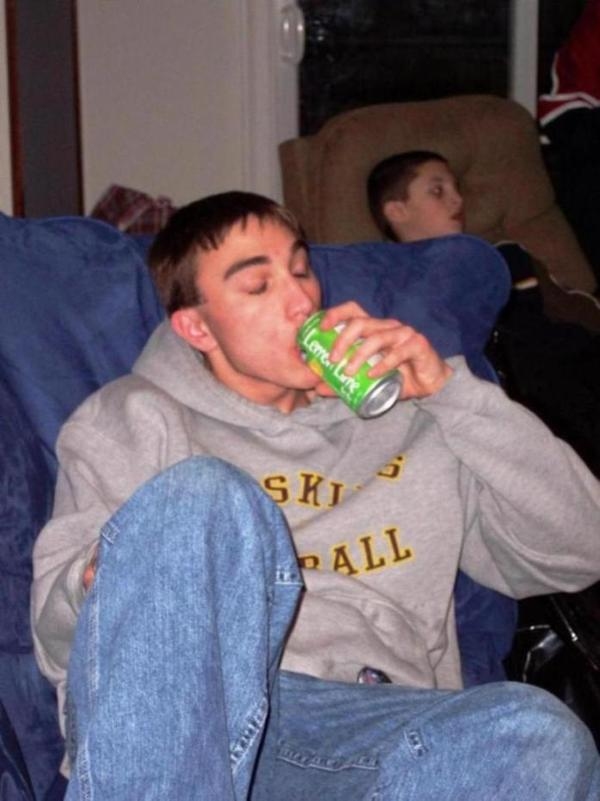person: (30, 189, 600, 800)
